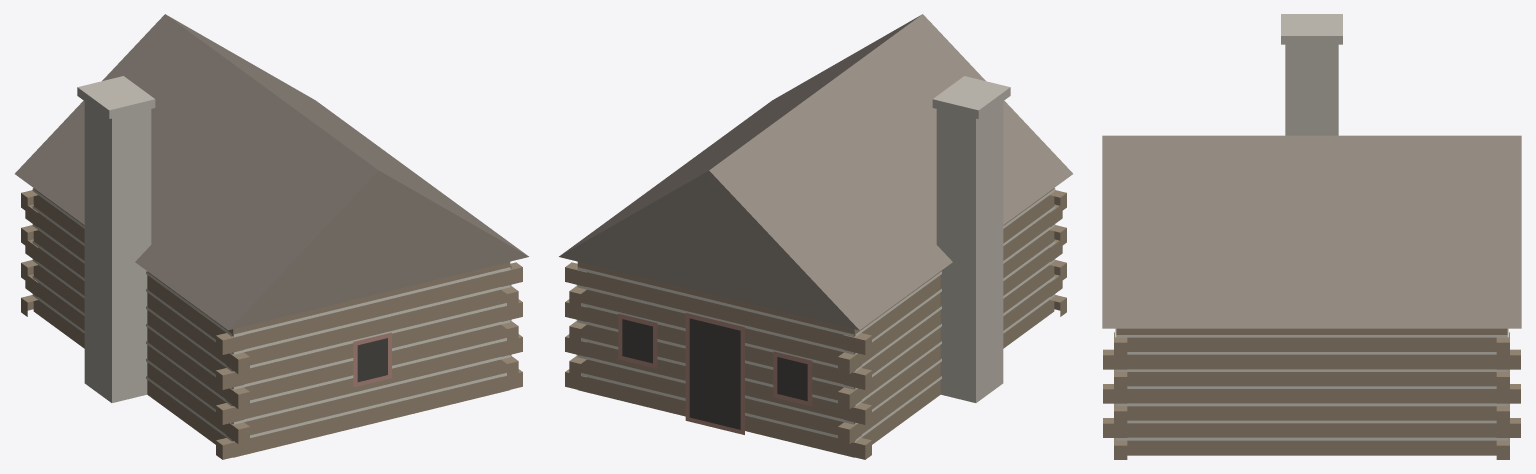
File: recon_1835_blk_south_water_dearborn_d1_05__inferred_1835.glb
3 renders of one model, left to right at view 1: azimuth 30°, elevation 25°; view 2: azimuth 150°, elevation 25°; view 3: azimuth 270°, elevation 25°, orthographic.
Parts seen in each view (by area): view 1: recon_1835_blk_south_water_dearborn_d1_05__inferred_1835; view 2: recon_1835_blk_south_water_dearborn_d1_05__inferred_1835; view 3: recon_1835_blk_south_water_dearborn_d1_05__inferred_1835.
Boxes of the visible parts, <box> form: recon_1835_blk_south_water_dearborn_d1_05__inferred_1835: <box>15,14,528,459</box>; recon_1835_blk_south_water_dearborn_d1_05__inferred_1835: <box>559,14,1072,459</box>; recon_1835_blk_south_water_dearborn_d1_05__inferred_1835: <box>1102,14,1521,459</box>.
Size of the model in its own units: 6.71 by 5.82 by 7.54.
